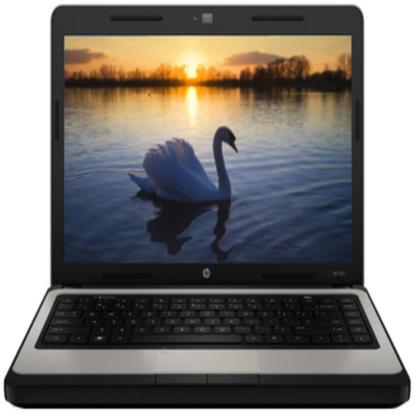board: (0, 11, 411, 411)
